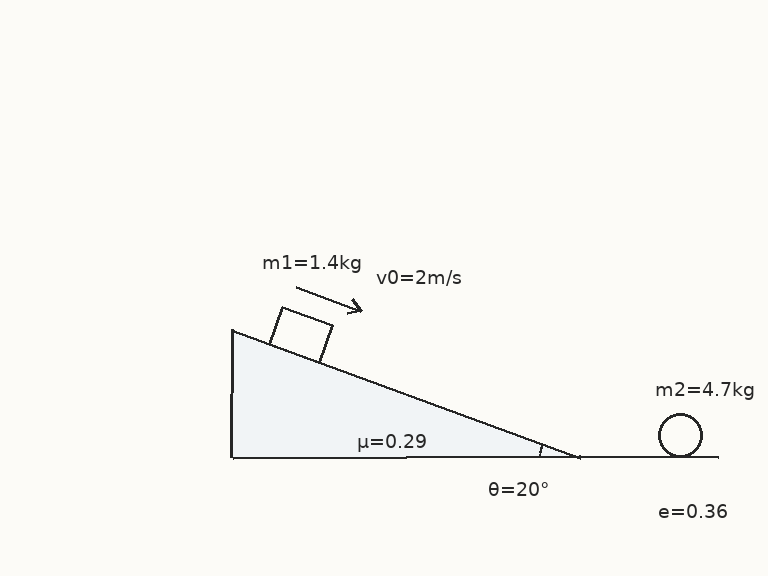ball: (656, 411, 704, 459)
block: (267, 305, 334, 364)
ramp: (229, 328, 582, 459)
